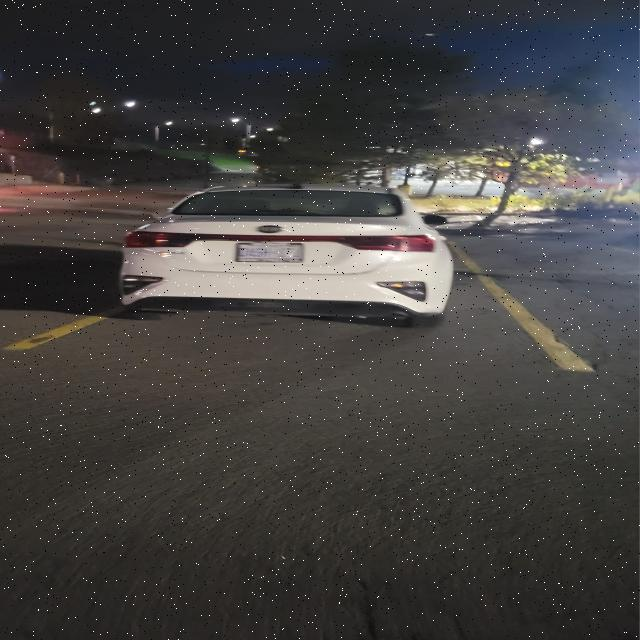plaque: (236, 242, 303, 262)
